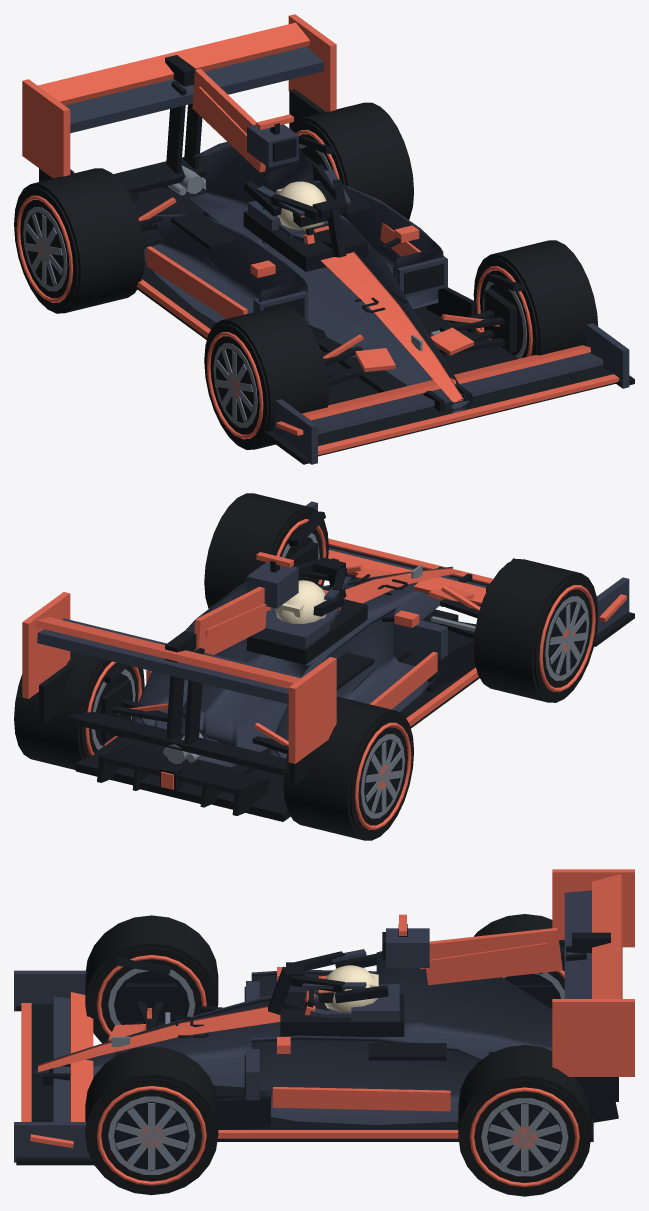
File: obsidian-27.glb
The picture shows the model from 3 angles, top to bottom: view 1: azimuth 30°, elevation 25°; view 2: azimuth 150°, elevation 25°; view 3: azimuth 270°, elevation 25°; orthographic projection.
Parts seen in each view (by area): view 1: formula-27, wheel (×4); view 2: formula-27, wheel (×4); view 3: formula-27, wheel (×4).
Boxes of the visible parts, left/top/right/bottom form: formula-27: left=22, top=14, right=634, bottom=464; wheel (×4): left=14, top=102, right=598, bottom=449; formula-27: left=22, top=501, right=634, bottom=821; wheel (×4): left=14, top=493, right=598, bottom=840; formula-27: left=14, top=869, right=634, bottom=1165; wheel (×4): left=85, top=914, right=591, bottom=1196.
Size of the model in its own units: 3.41 by 1.85 by 5.41.
